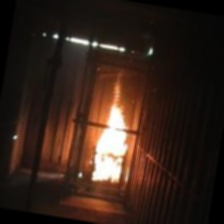fire: (85, 96, 140, 188)
